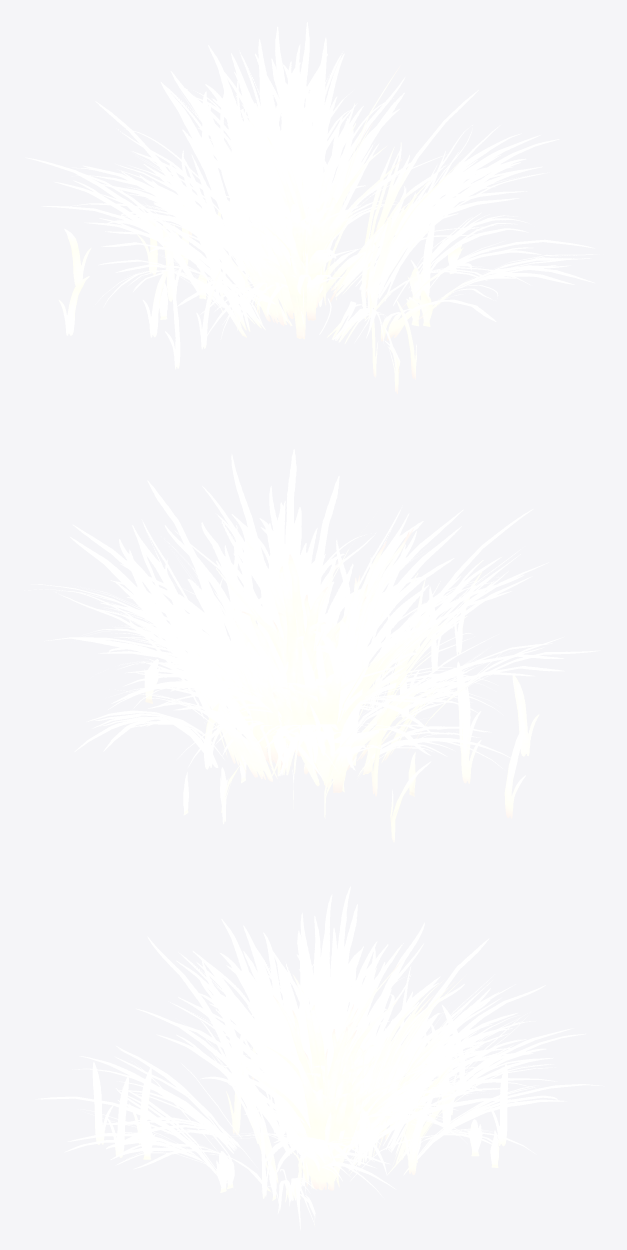
3 views of the same model, one above another, from view 1: azimuth 30°, elevation 25°; view 2: azimuth 150°, elevation 25°; view 3: azimuth 270°, elevation 25° (orthographic). The views are drawn at different scales.
Visible parts, largest first — view 1: SM_Sedge_02_LOD0; view 2: SM_Sedge_02_LOD0; view 3: SM_Sedge_02_LOD0.
Part boxes in pixels (x1,y1,x2,y2): SM_Sedge_02_LOD0: (25,22,599,393); SM_Sedge_02_LOD0: (24,449,600,842); SM_Sedge_02_LOD0: (35,886,604,1230).
Bounding box in the file's own units: 0.9026 × 0.4439 × 0.9965.
Materials: 1 (1 with a texture image).
